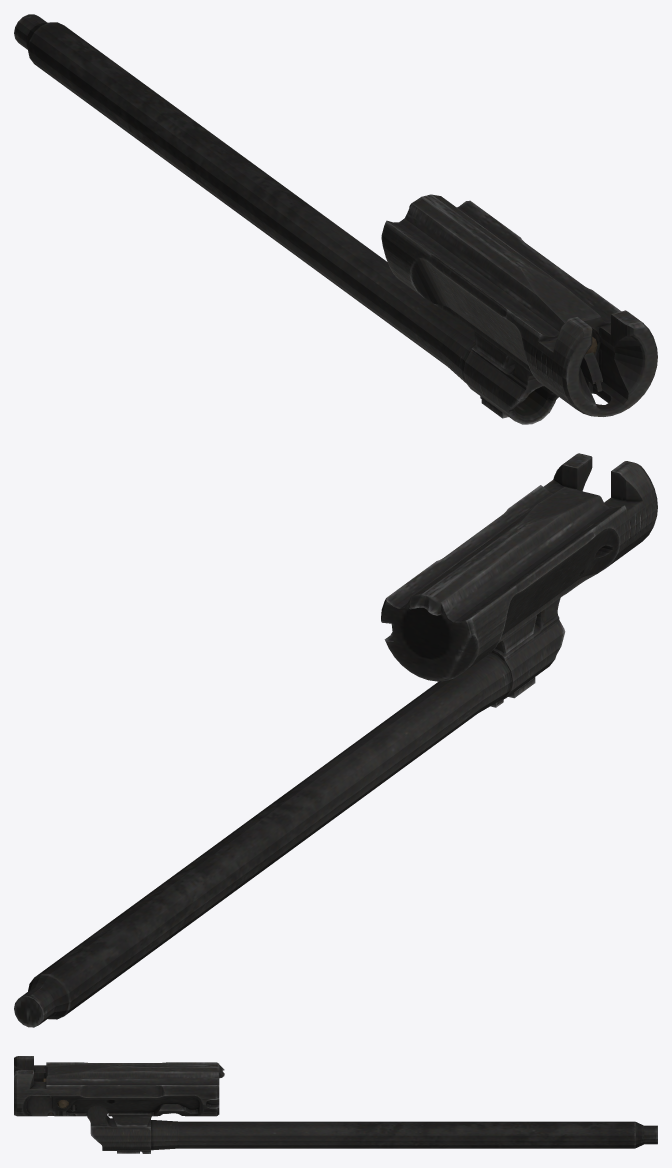
The picture shows the model from 3 angles, top to bottom: view 1: azimuth 30°, elevation 25°; view 2: azimuth 150°, elevation 25°; view 3: azimuth 270°, elevation 25°; orthographic projection. The views are drawn at different scales.
Visible parts, largest first — view 1: TW_65290f395ae2ae97b80fdf2d_PZ_Import; view 2: TW_65290f395ae2ae97b80fdf2d_PZ_Import; view 3: TW_65290f395ae2ae97b80fdf2d_PZ_Import.
Part boxes in pixels (left/top/right/bottom): TW_65290f395ae2ae97b80fdf2d_PZ_Import: left=14, top=14, right=657, bottom=424; TW_65290f395ae2ae97b80fdf2d_PZ_Import: left=14, top=453, right=657, bottom=1027; TW_65290f395ae2ae97b80fdf2d_PZ_Import: left=14, top=1056, right=657, bottom=1153.
Size of the model in its own units: 0.017 by 0.1808 by 0.0275.
Materials: 1 (1 with a texture image).
